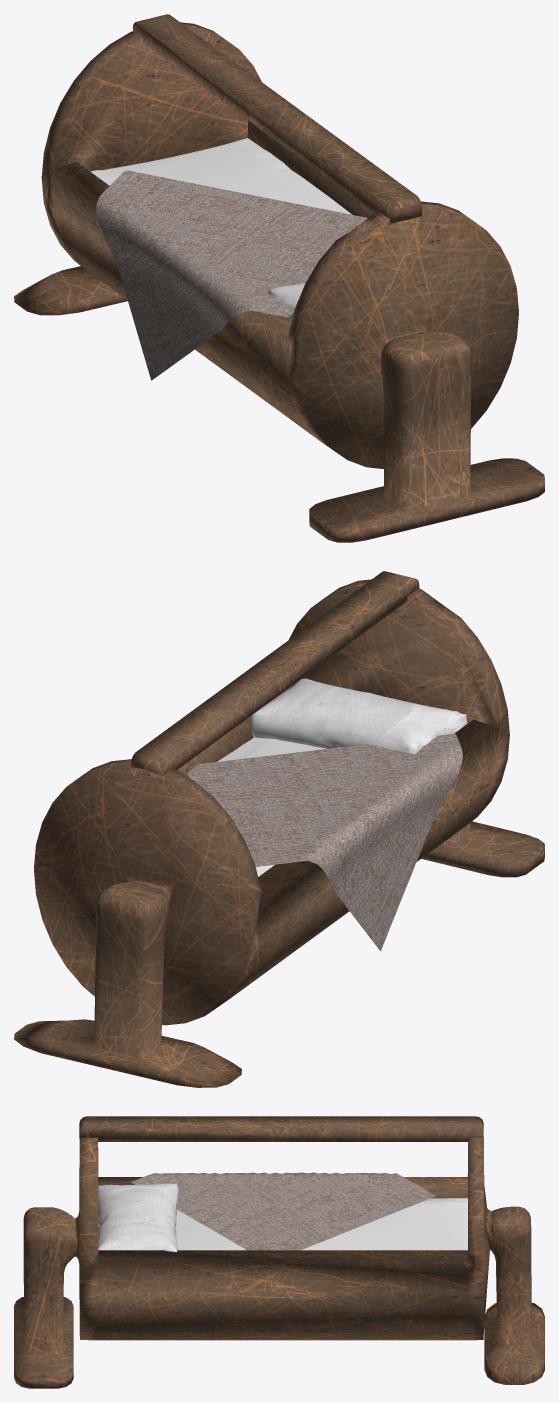
Rendered from krevatche.fbx.
3 renders of one model, top to bottom at view 1: azimuth 30°, elevation 25°; view 2: azimuth 150°, elevation 25°; view 3: azimuth 270°, elevation 25°, orthographic. The views are drawn at different scales.
Visible parts, largest first — view 1: Cylinder, Plane.006, Plane.005; view 2: Cylinder, Plane.006, Cube.016, Plane.005; view 3: Cylinder, Plane.006, Plane.005, Cube.016.
Part boxes in pixels (x1,y1,x2,y2): Cylinder: (14,14,544,542); Plane.006: (96,170,367,380); Plane.005: (90,138,351,214); Cylinder: (14,571,544,1087); Plane.006: (187,733,462,951); Cube.016: (251,678,467,753); Plane.005: (217,738,326,876); Cylinder: (14,1116,544,1388); Plane.006: (131,1172,435,1250); Plane.005: (175,1198,467,1250); Cube.016: (98,1183,178,1251).
Bounding box in the file's own units: 54.94 × 65.64 × 140.
